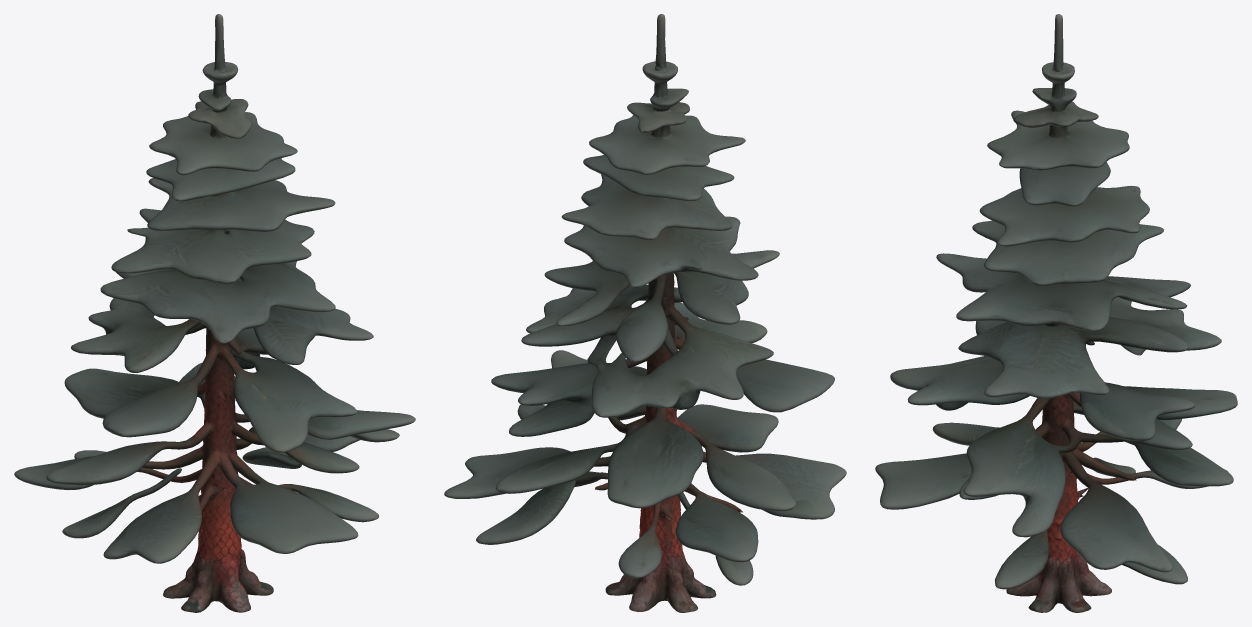
Rendered from CW_HF_AlpineFir_Hunyuan_LOD1.fbx.
3 renders of one model, left to right at view 1: azimuth 30°, elevation 25°; view 2: azimuth 150°, elevation 25°; view 3: azimuth 270°, elevation 25°, orthographic.
Parts seen in each view (by area): view 1: CW_HF_AlpineFir_Hunyuan_LOD1; view 2: CW_HF_AlpineFir_Hunyuan_LOD1; view 3: CW_HF_AlpineFir_Hunyuan_LOD1.
Boxes of the visible parts, x1,y1,x2,y2 form: CW_HF_AlpineFir_Hunyuan_LOD1: [14, 14, 415, 612]; CW_HF_AlpineFir_Hunyuan_LOD1: [444, 14, 846, 612]; CW_HF_AlpineFir_Hunyuan_LOD1: [875, 14, 1237, 612].
Bounding box in the file's own units: 5.27 × 9 × 5.13.
1 material, 1 textured.
